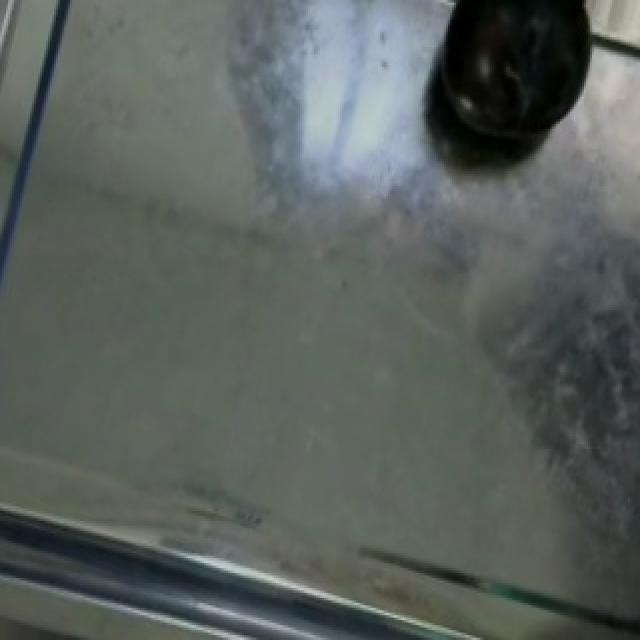Fruit: (420, 0, 624, 164)
